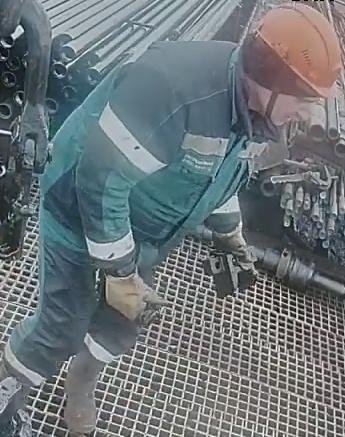gloves: (209, 216, 261, 297), (103, 265, 168, 324)
helmet: (246, 1, 344, 105)
vest: (39, 38, 258, 247)
